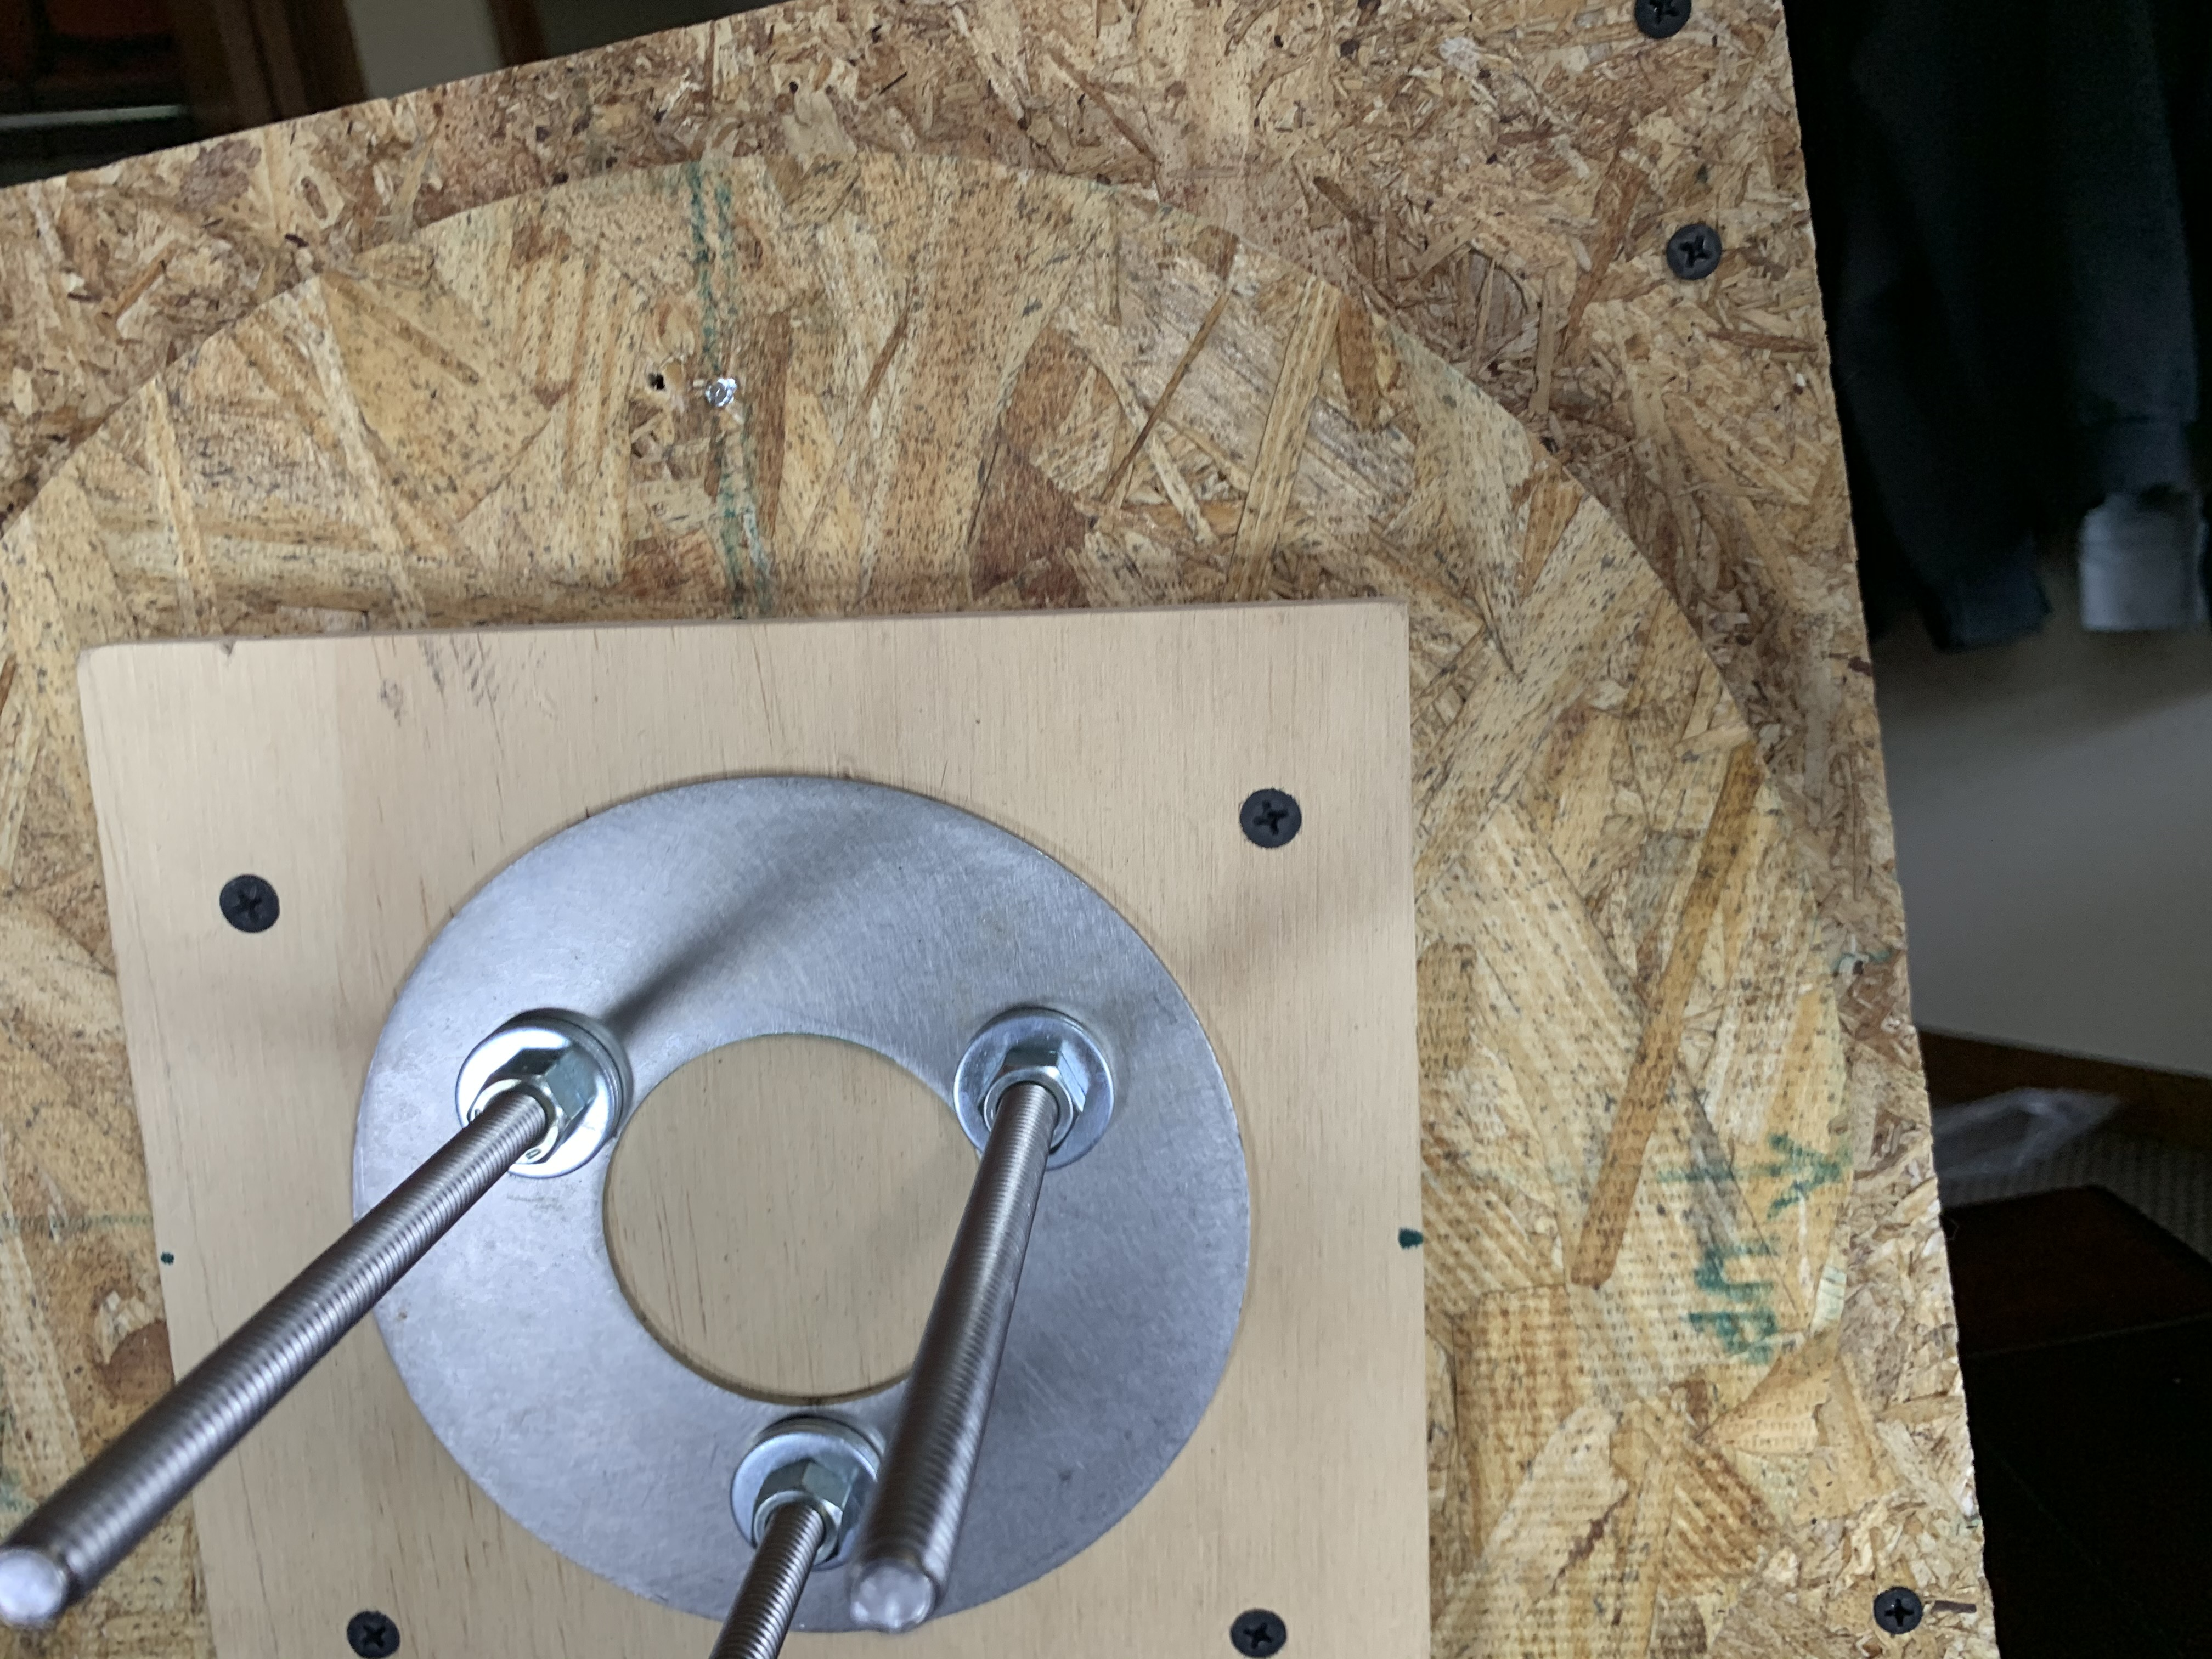bolt: (453, 1011, 632, 1180), (949, 1002, 1122, 1175), (726, 1413, 894, 1577)
